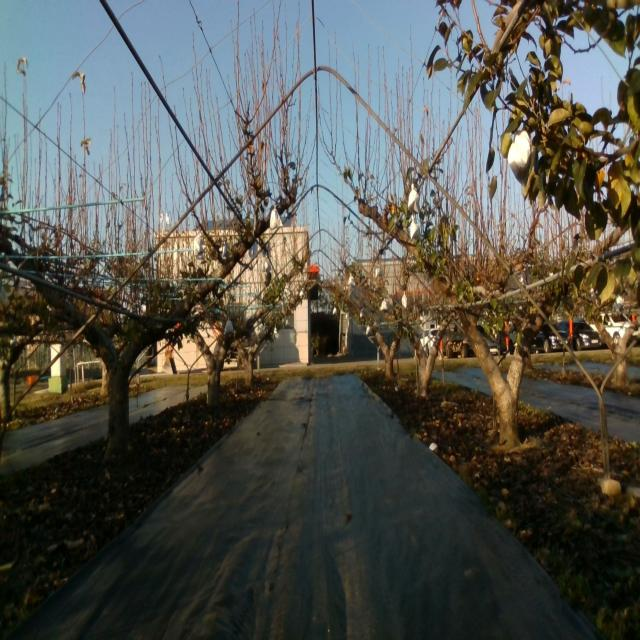pearbags: (507, 126, 533, 176), (270, 206, 283, 232), (408, 184, 419, 214), (192, 234, 206, 256), (410, 213, 421, 240)
